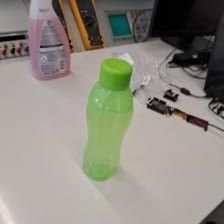bottle: (79, 55, 135, 181)
